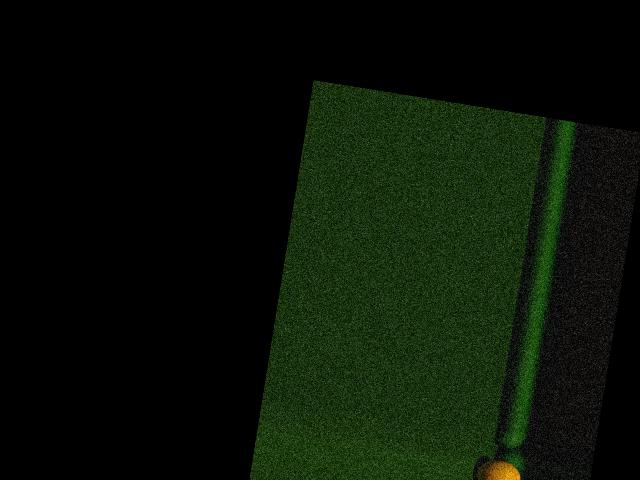egg: (474, 457, 522, 480)
